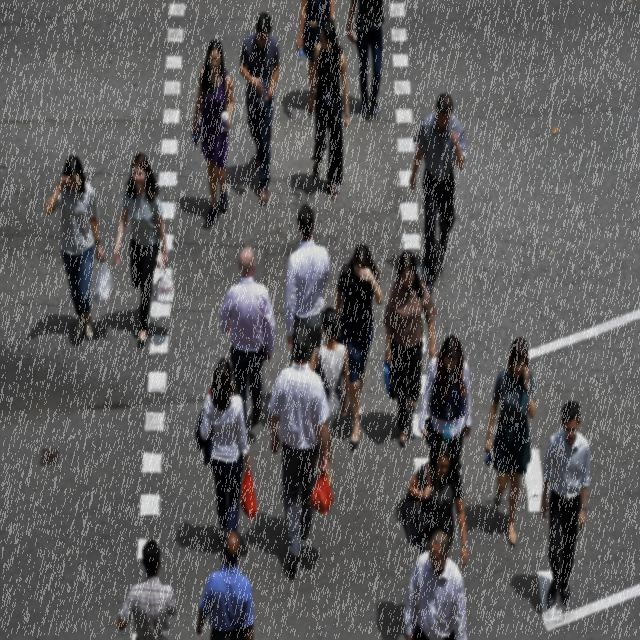pessoa: (269, 325, 334, 560), (46, 154, 114, 342), (113, 152, 176, 354), (408, 92, 467, 286), (484, 336, 537, 548), (539, 400, 590, 610), (220, 245, 276, 430), (384, 249, 436, 448), (334, 242, 384, 448), (200, 358, 252, 540), (306, 18, 352, 202), (239, 10, 281, 206), (190, 38, 234, 222), (284, 203, 331, 367), (308, 307, 350, 490), (408, 438, 467, 568), (418, 335, 473, 474), (404, 530, 467, 640), (197, 530, 255, 640), (117, 538, 178, 640), (345, 0, 386, 120), (296, 0, 336, 114)
